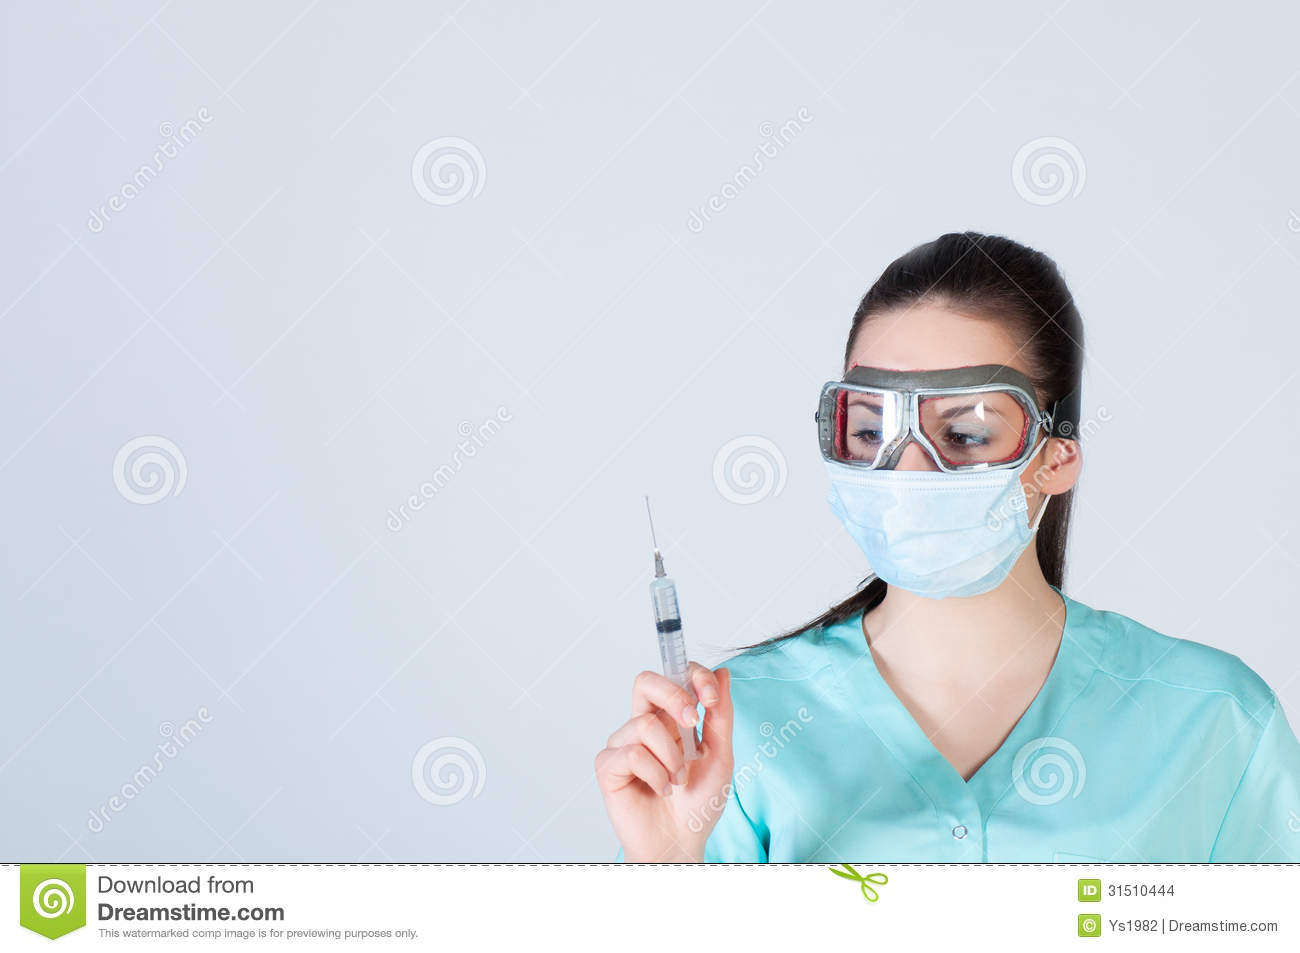mask: (825, 462, 1035, 597)
